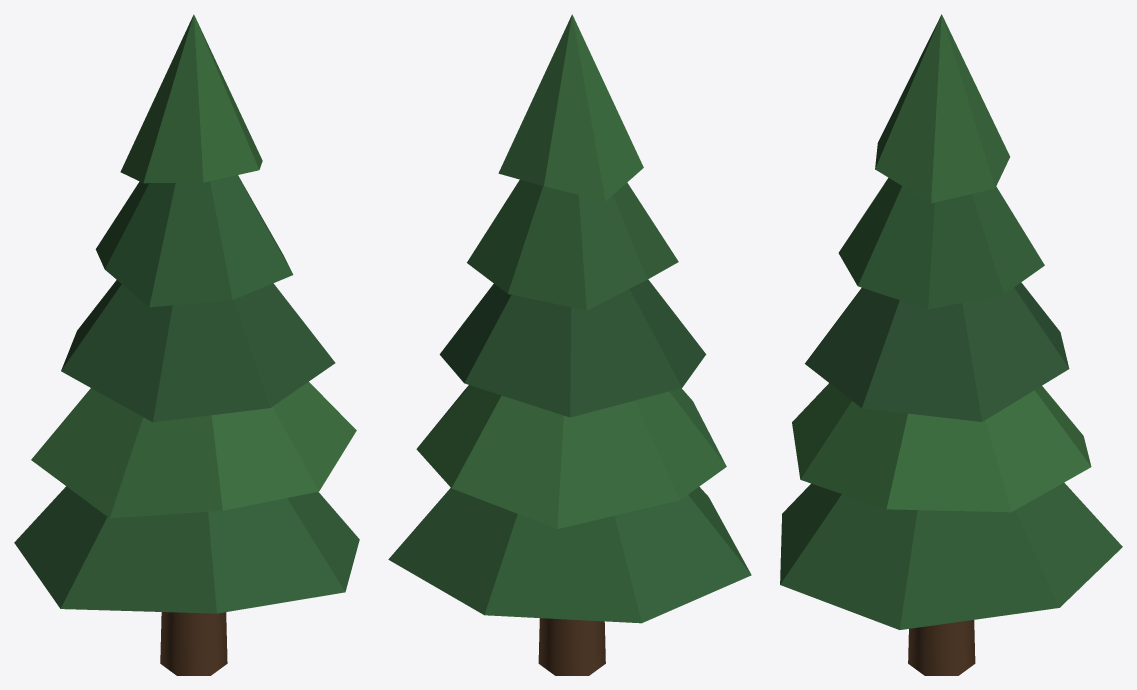
Rendered from tree_pine_1.glb.
The picture shows the model from 3 angles, left to right: view 1: azimuth 30°, elevation 25°; view 2: azimuth 150°, elevation 25°; view 3: azimuth 270°, elevation 25°; orthographic projection.
Parts seen in each view (by area): view 1: crown, trunk; view 2: crown, trunk; view 3: crown, trunk.
Boxes of the visible parts, x1=… form: crown: x1=14, y1=14, x2=359, y2=613; trunk: x1=160, y1=612, x2=227, y2=675; crown: x1=388, y1=14, x2=751, y2=623; trunk: x1=538, y1=618, x2=605, y2=675; crown: x1=780, y1=14, x2=1122, y2=629; trunk: x1=908, y1=620, x2=975, y2=675.
Size of the model in its own units: 1.45 by 2.98 by 1.43.
